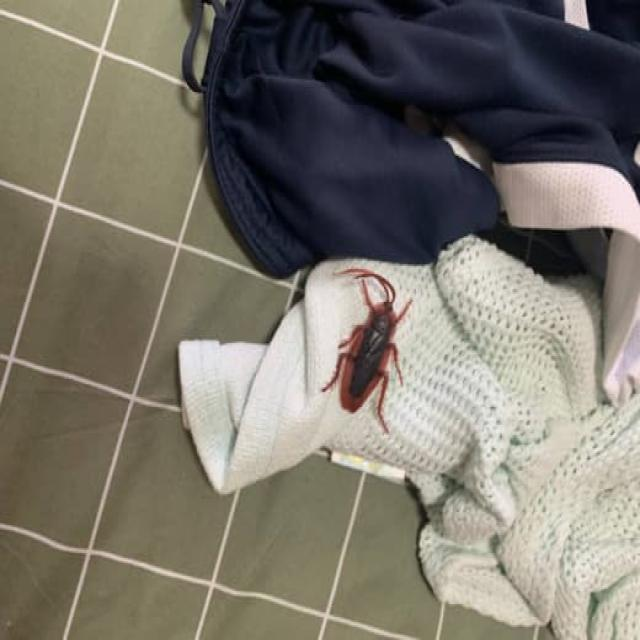Cockroach: (328, 259, 412, 435)
